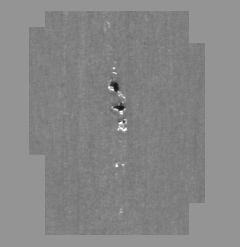oxl: (35, 10, 205, 237)
